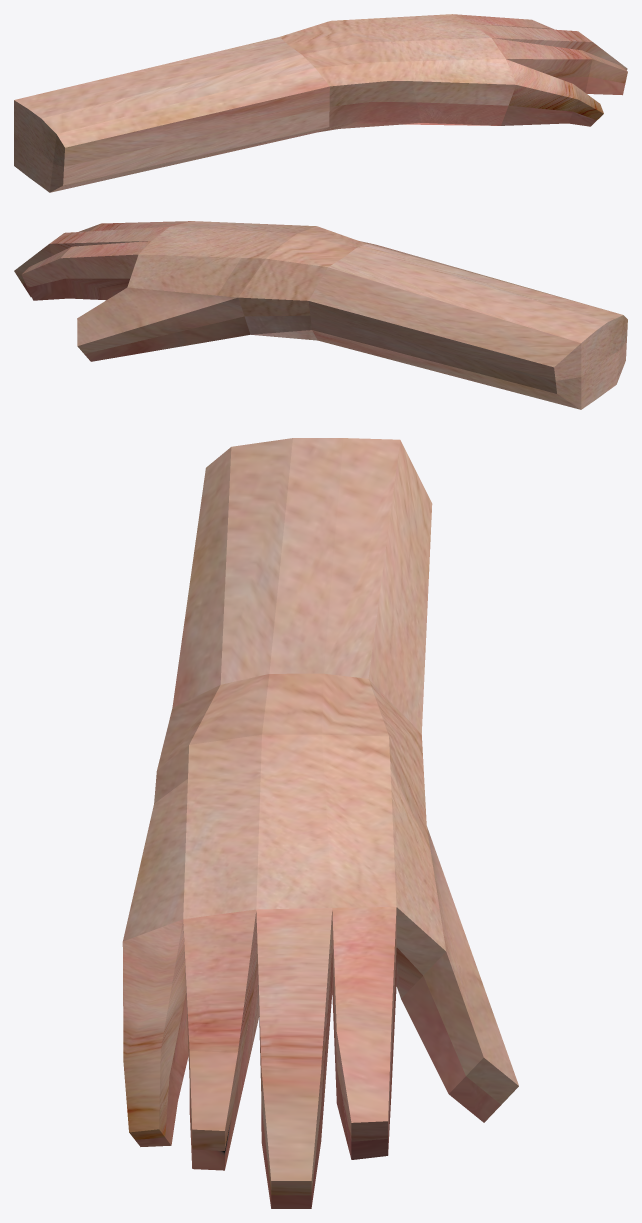
Rendered from arm1.fbx.
3 views of the same model, one above another, from view 1: azimuth 30°, elevation 25°; view 2: azimuth 150°, elevation 25°; view 3: azimuth 270°, elevation 25° (orthographic). The views are drawn at different scales.
Visible parts, largest first — view 1: Cube; view 2: Cube; view 3: Cube.
Part boxes in pixels (left/top/right/bottom): Cube: left=14, top=14, right=627, bottom=192; Cube: left=14, top=221, right=627, bottom=409; Cube: left=122, top=438, right=518, bottom=1208.
Bounding box in the file's own units: 1257 × 255 × 371.
